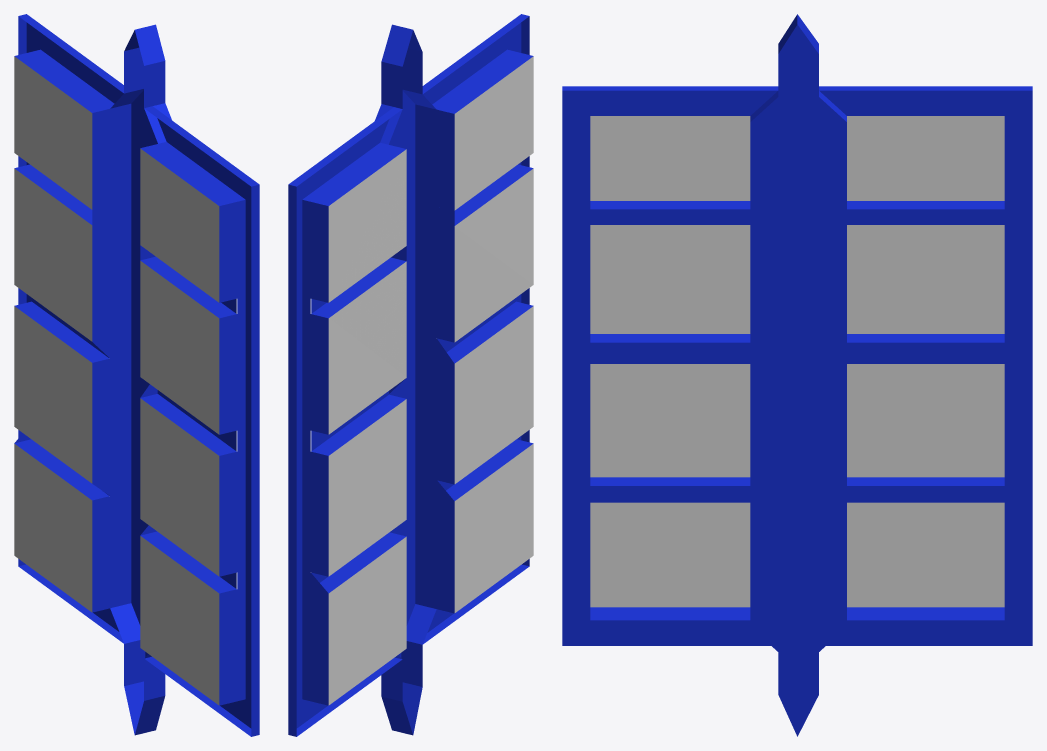
File: Janela2.fbx
3 renders of one model, left to right at view 1: azimuth 30°, elevation 25°; view 2: azimuth 150°, elevation 25°; view 3: azimuth 270°, elevation 25°, orthographic.
Visible parts, largest first — view 1: Cube.001; view 2: Cube.001; view 3: Cube.001.
Boxes of the visible parts, x1,y1,x2,y2 form: Cube.001: (14,14,259,736); Cube.001: (288,14,533,736); Cube.001: (562,14,1032,736).
Bounding box in the file's own units: 19.37 × 334 × 200.
